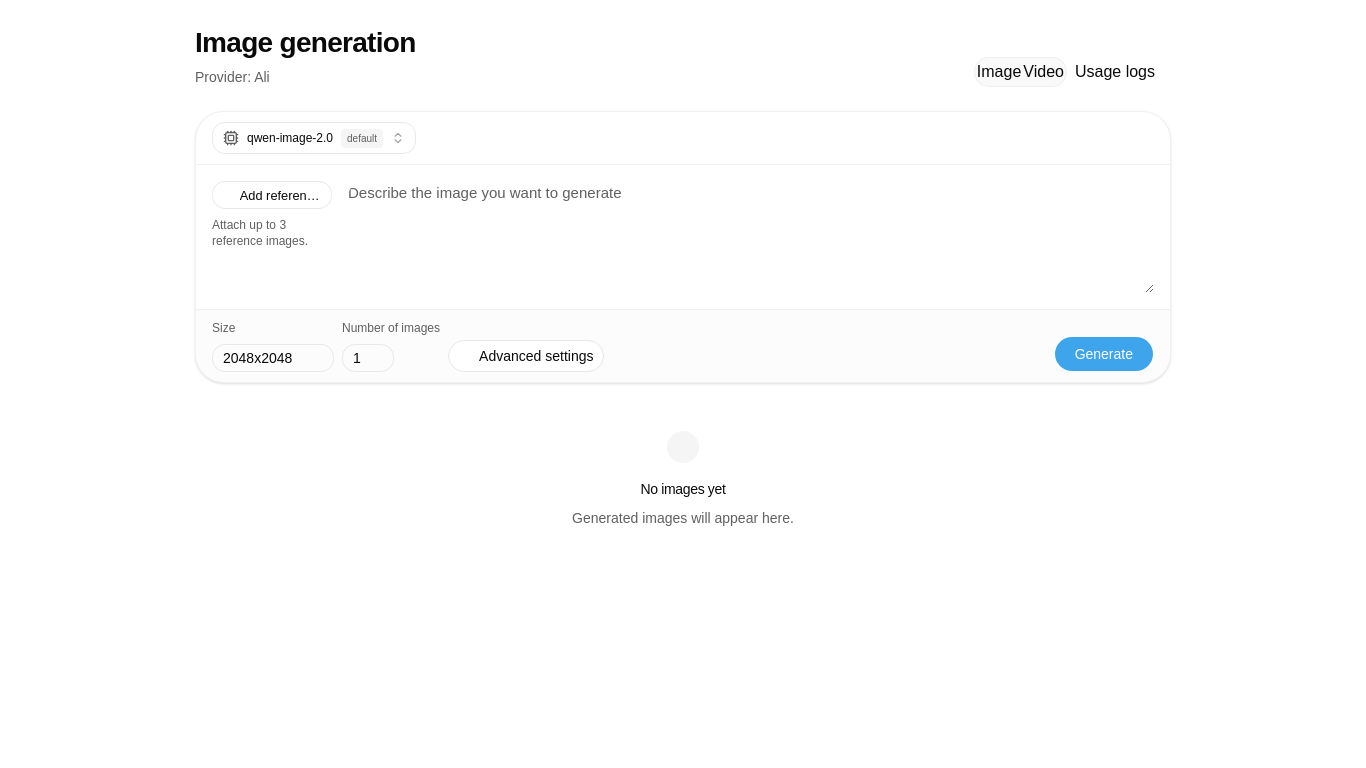
Test: ImagePlayground generation history page behavior › keeps the first run visible when the second generation fails, and retry replays the saved snapshot
Type "a red apple" into the text box with placeholder "Describe the image you want to generate" at (751, 237), box [348, 181, 1154, 293]
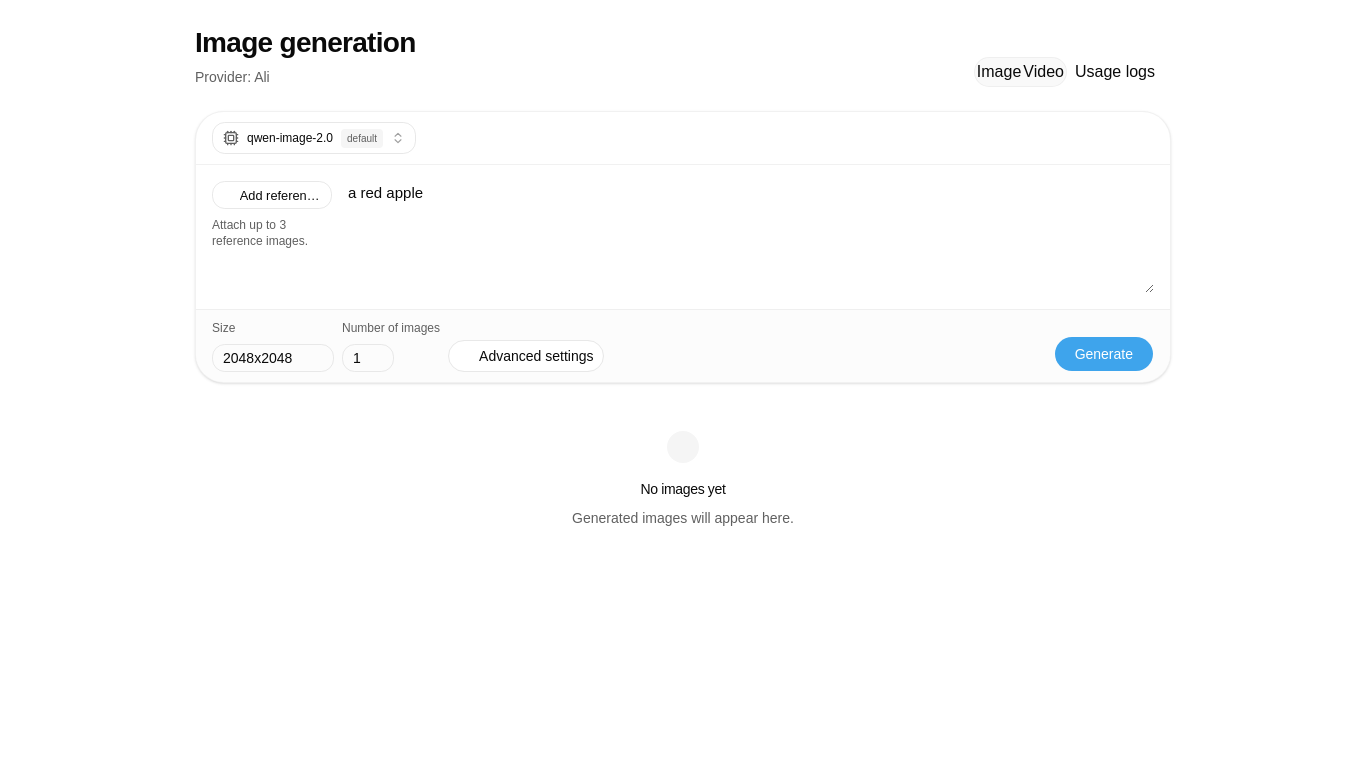
Click the button "Generate" at (1104, 354), box [1054, 336, 1154, 372]
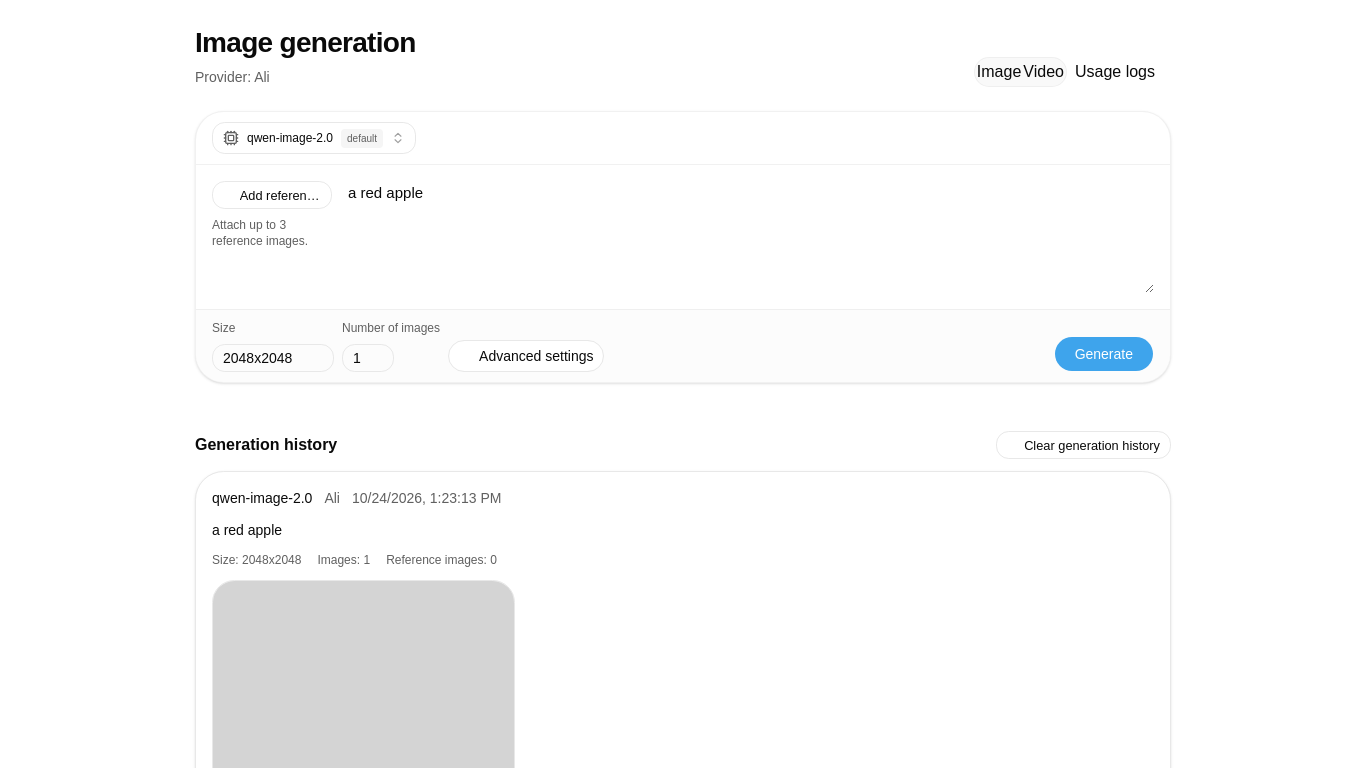
Replace the text in the text box with placeholder "Describe the image you want to generate" with "a blue car" at (751, 237), box [348, 181, 1154, 293]
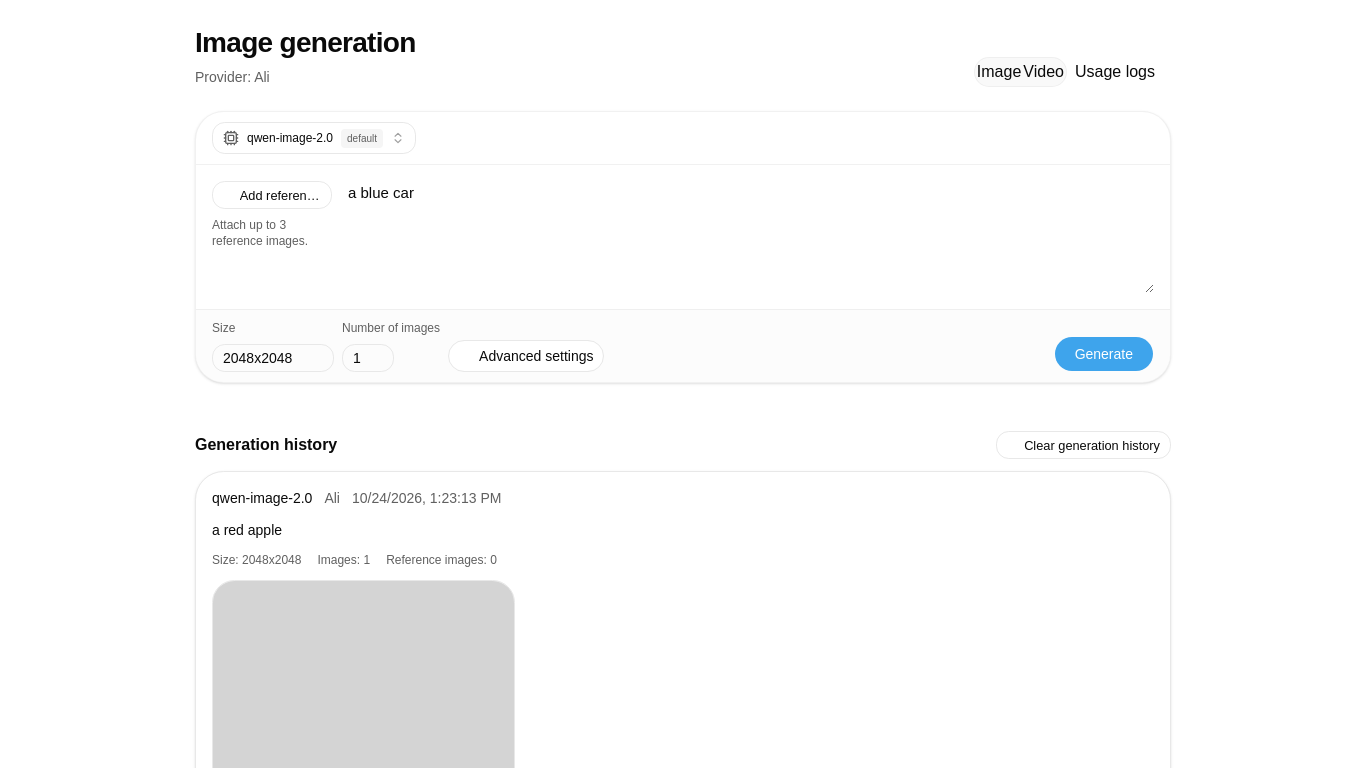
Click the button "Generate" at (1104, 354), box [1054, 336, 1154, 372]
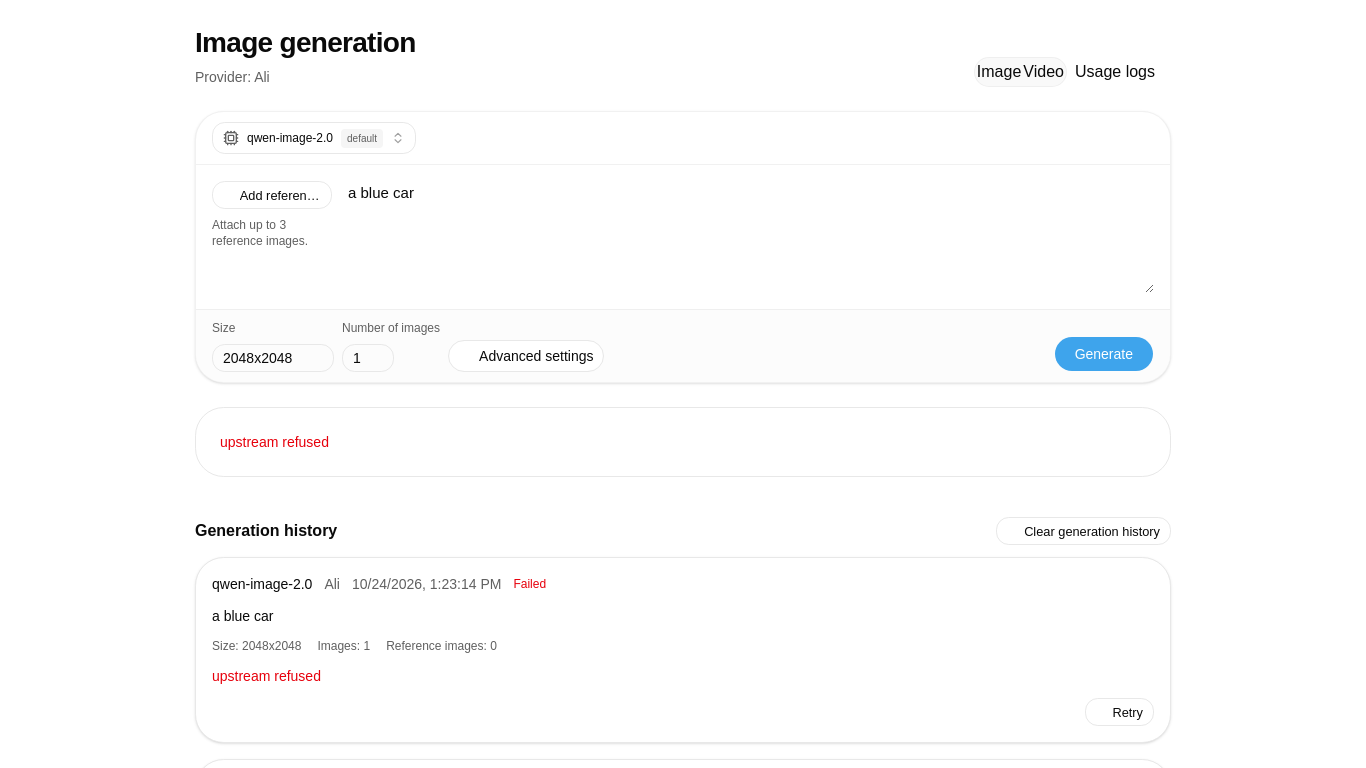
Expected: the text "upstream refused" is shown, [220, 434, 329, 450]
Expected: the button "Retry" is shown, [1085, 698, 1154, 726]
Replace the text in the text box with placeholder "Describe the image you want to generate" with "changed-in-form" at (751, 237), box [348, 181, 1154, 293]
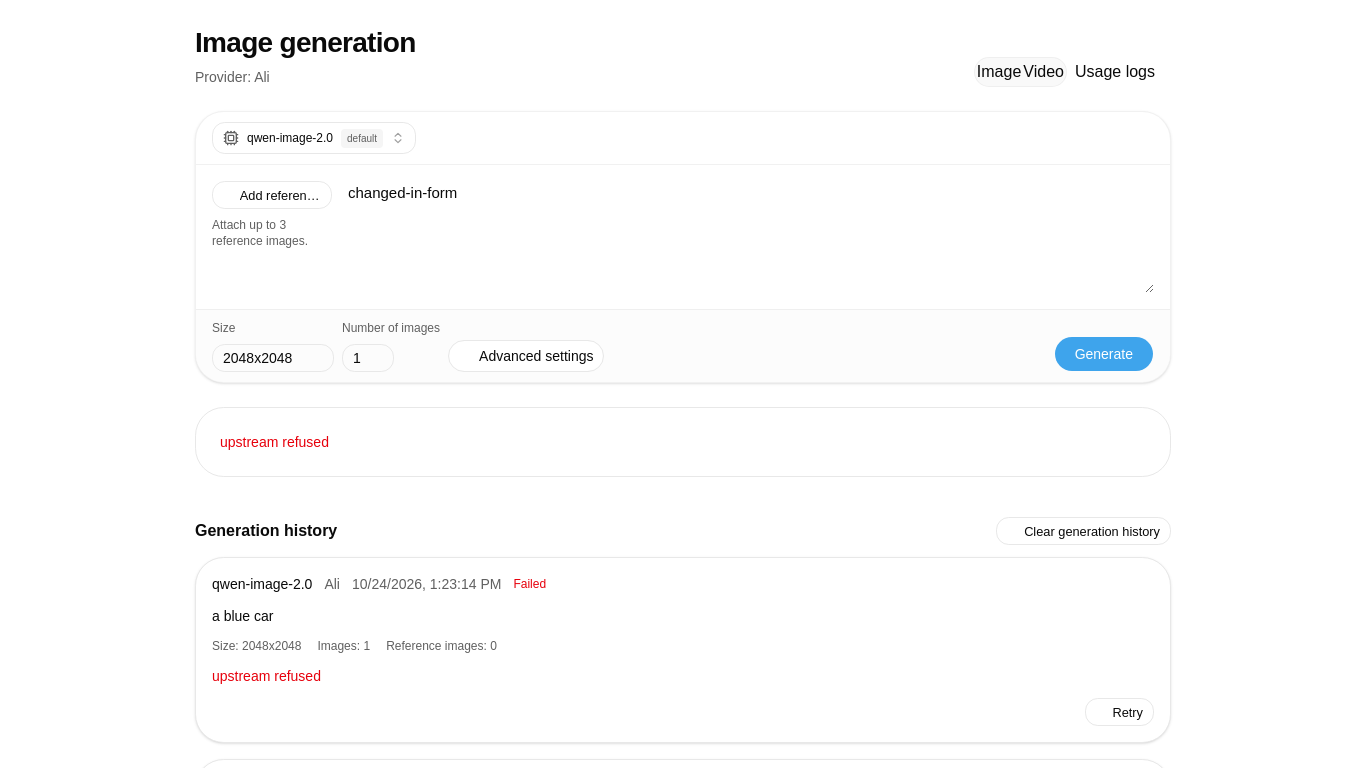
Click the button "Retry" at (1119, 712), box [1085, 698, 1154, 726]
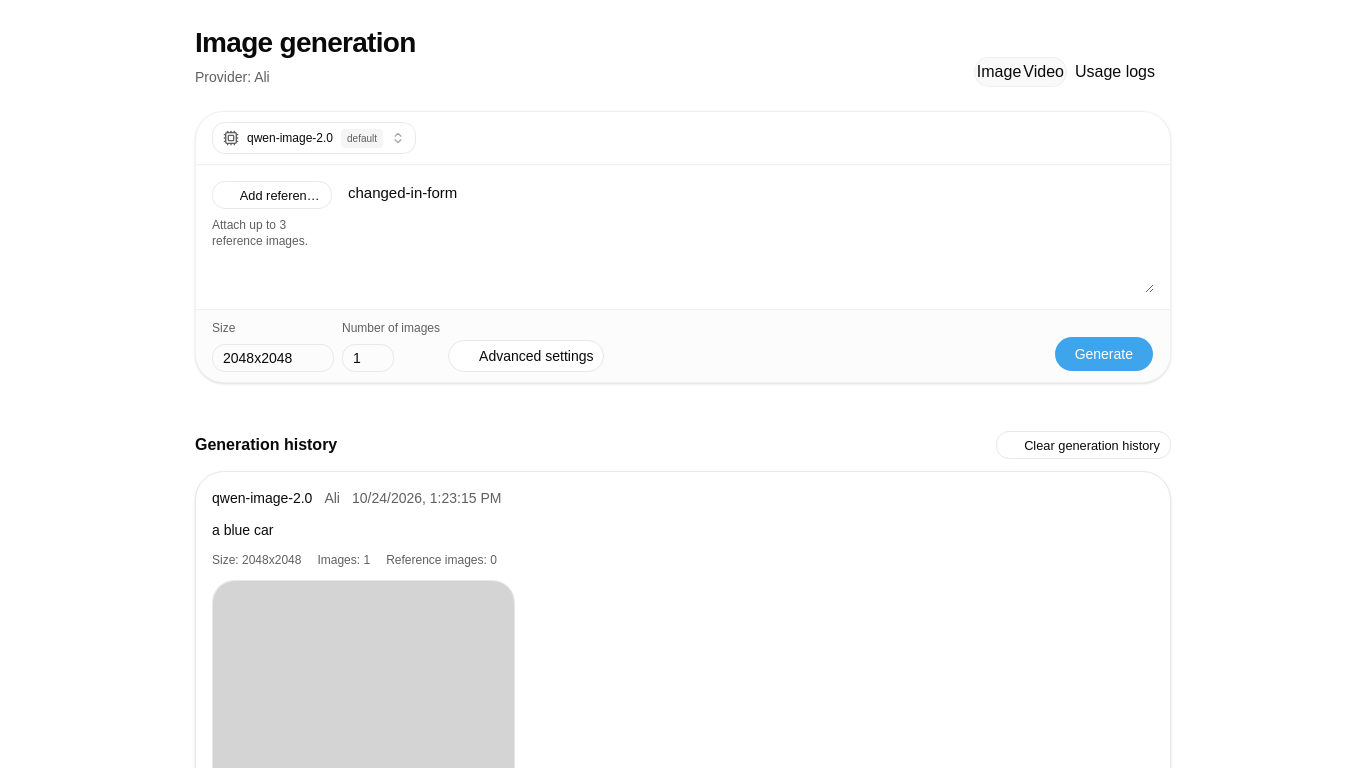
Expected: the 1st text "qwen-image-2.0" is shown, [247, 130, 333, 146]
Expected: the text "a blue car" is shown, [212, 522, 274, 538]
